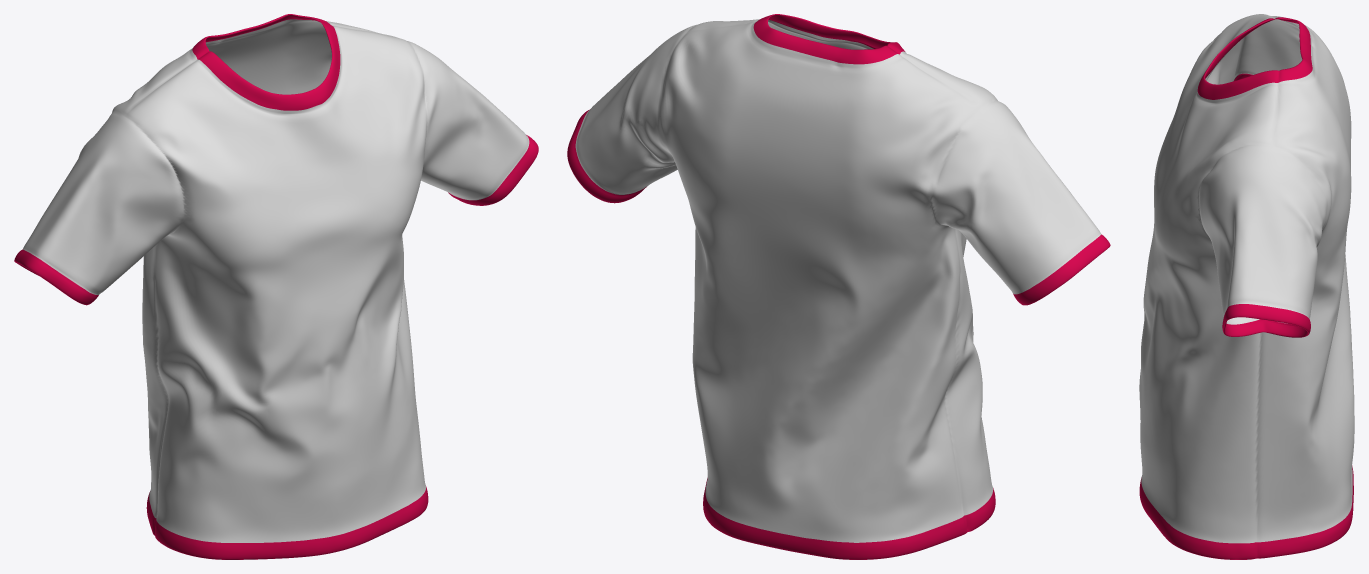
File: man-2.glb
3 views of the same model, side by side, from view 1: azimuth 30°, elevation 25°; view 2: azimuth 150°, elevation 25°; view 3: azimuth 270°, elevation 25° (orthographic). The views are drawn at different scales.
Visible parts, largest first — view 1: t_shirt_Model3; view 2: t_shirt_Model3; view 3: t_shirt_Model3.
Boxes of the visible parts, x1,y1,x2,y2 form: t_shirt_Model3: (14, 14, 538, 559); t_shirt_Model3: (567, 14, 1110, 559); t_shirt_Model3: (1139, 14, 1354, 559).
Size of the model in its own units: 0.7033 by 0.6296 by 0.2664.
